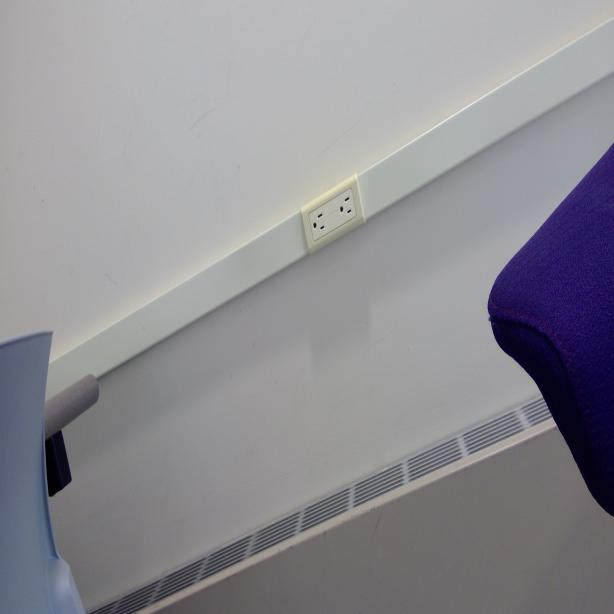typeb: (308, 208, 329, 239), (336, 190, 356, 220)
